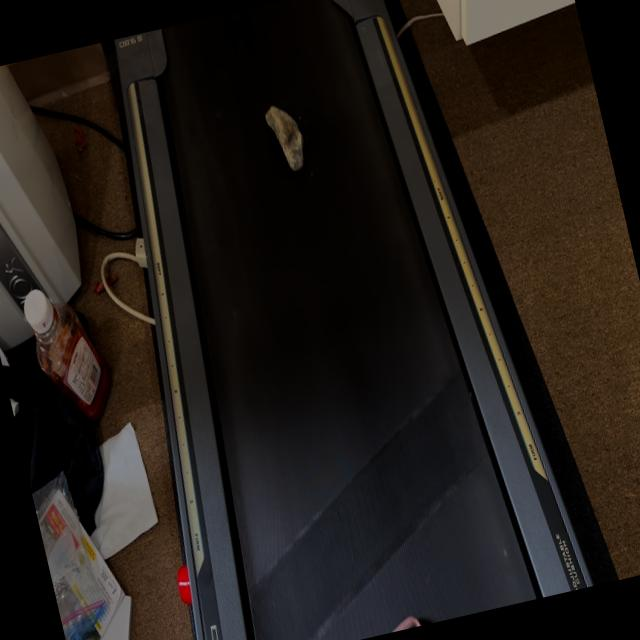Trash: (262, 99, 312, 178)
